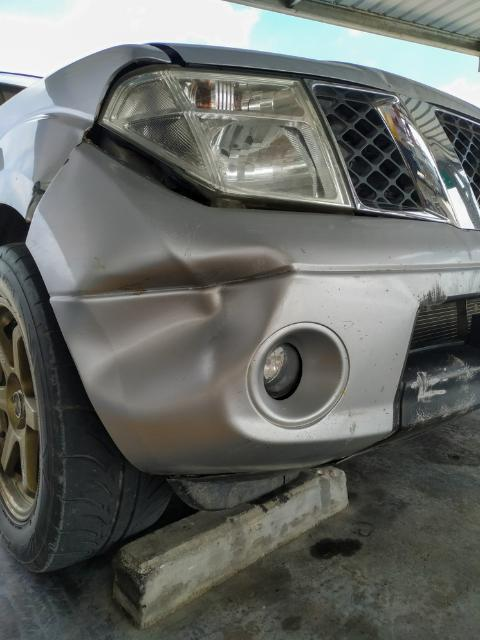Bumper: (22, 130, 467, 470)
